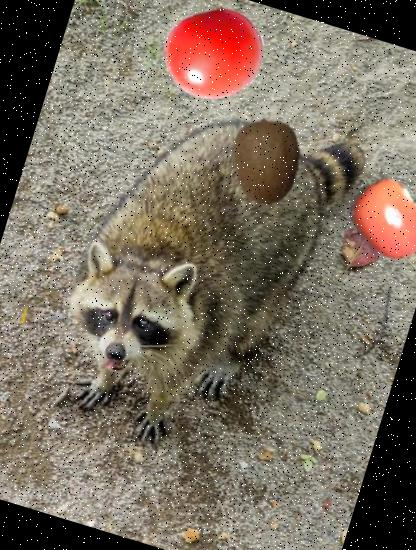Kaki: (334, 164, 416, 273)
Kiwi: (211, 107, 320, 216)
Tomato: (152, 0, 278, 118)
